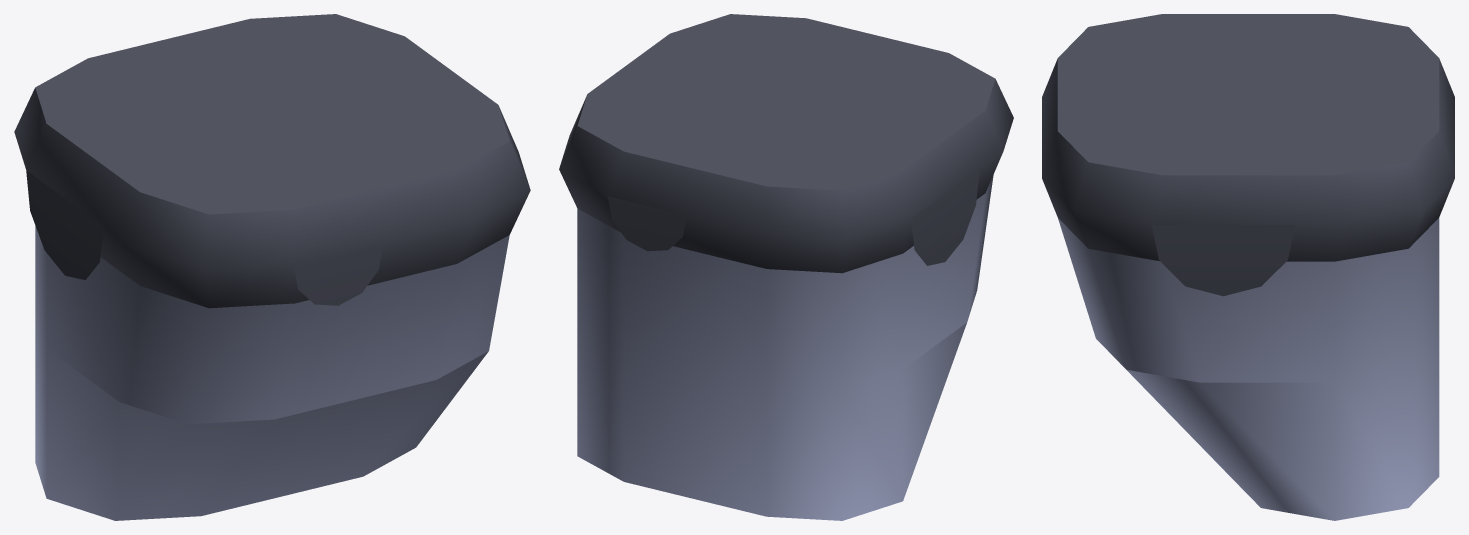
Rendered from block-snow-overhang-edge.glb.
3 renders of one model, left to right at view 1: azimuth 30°, elevation 25°; view 2: azimuth 150°, elevation 25°; view 3: azimuth 270°, elevation 25°, orthographic. The views are drawn at different scales.
Visible parts, largest first — view 1: block-snow-overhang-edge; view 2: block-snow-overhang-edge; view 3: block-snow-overhang-edge.
Boxes of the visible parts, x1,y1,x2,y2 form: block-snow-overhang-edge: (14,14,530,520); block-snow-overhang-edge: (559,14,1013,520); block-snow-overhang-edge: (1042,14,1454,520).
Size of the model in its own units: 1.08 by 1 by 1.08.
